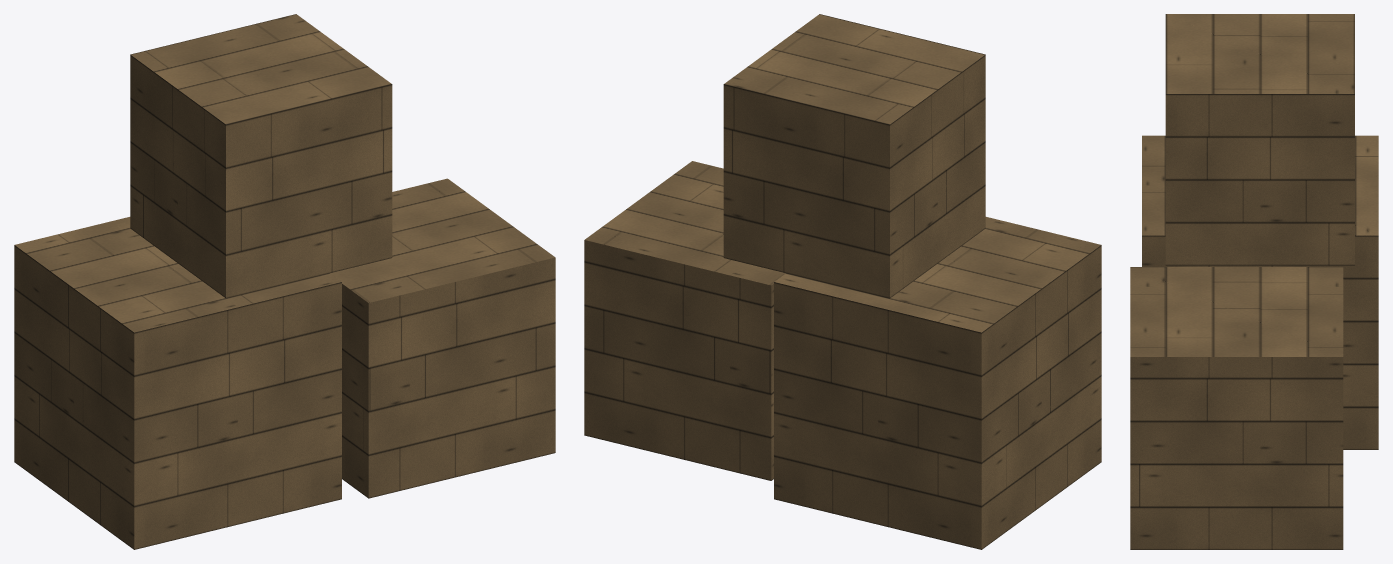
Rendered from crate_stack.glb.
The picture shows the model from 3 angles, left to right: view 1: azimuth 30°, elevation 25°; view 2: azimuth 150°, elevation 25°; view 3: azimuth 270°, elevation 25°; orthographic projection.
Visible parts, largest first — view 1: crate_stack; view 2: crate_stack; view 3: crate_stack.
Part boxes in pixels (x1=…): crate_stack: x1=14, y1=14, x2=555, y2=549; crate_stack: x1=584, y1=14, x2=1101, y2=549; crate_stack: x1=1130, y1=14, x2=1378, y2=549.
Bounding box in the file's own units: 2 × 1.8 × 1.05.
1 material, 1 textured.
